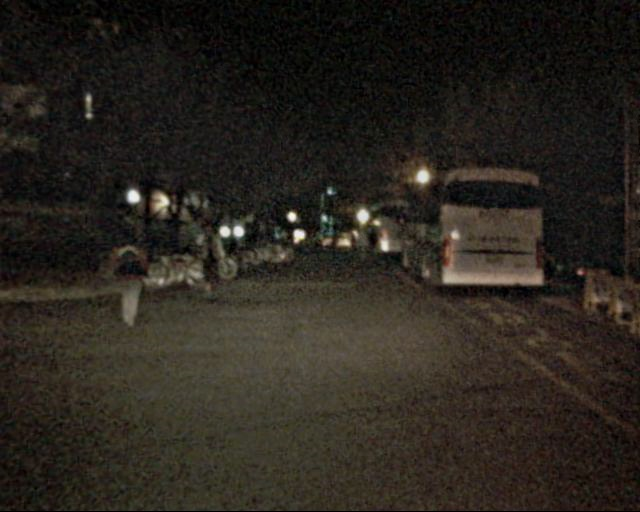person: (108, 219, 154, 328), (192, 219, 225, 300), (356, 228, 381, 266)
